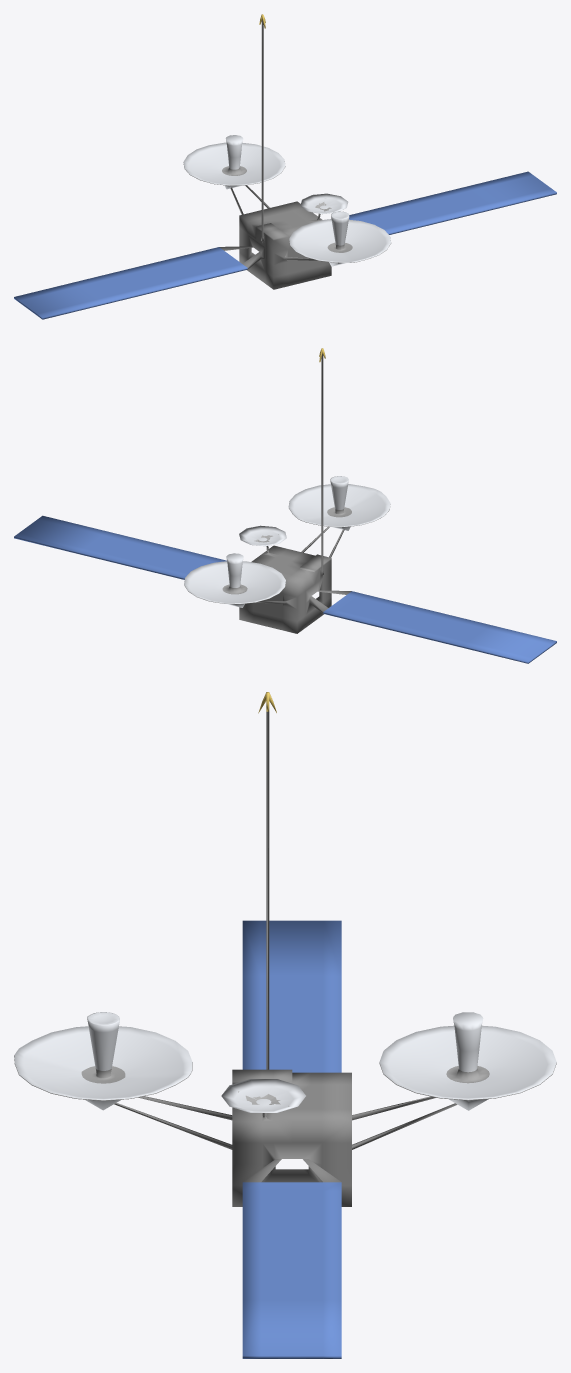
Rendered from tdrs-relay.glb.
3 views of the same model, one above another, from view 1: azimuth 30°, elevation 25°; view 2: azimuth 150°, elevation 25°; view 3: azimuth 270°, elevation 25° (orthographic). The views are drawn at different scales.
Visible parts, largest first — view 1: polySurface5; view 2: polySurface5; view 3: polySurface5.
Boxes of the visible parts, <box> form: polySurface5: <box>14,14,556,319</box>; polySurface5: <box>14,348,556,663</box>; polySurface5: <box>14,692,556,1358</box>.
Size of what is drawn, in the model's own units: 2 by 1.01 by 1.05.
